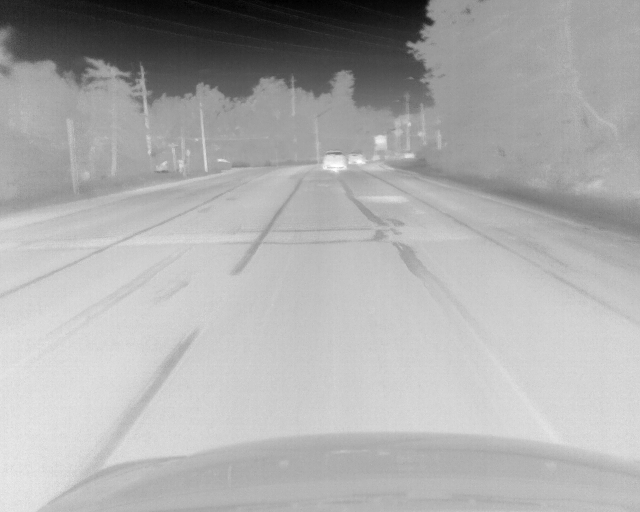car: (322, 150, 345, 171), (347, 152, 367, 165)
